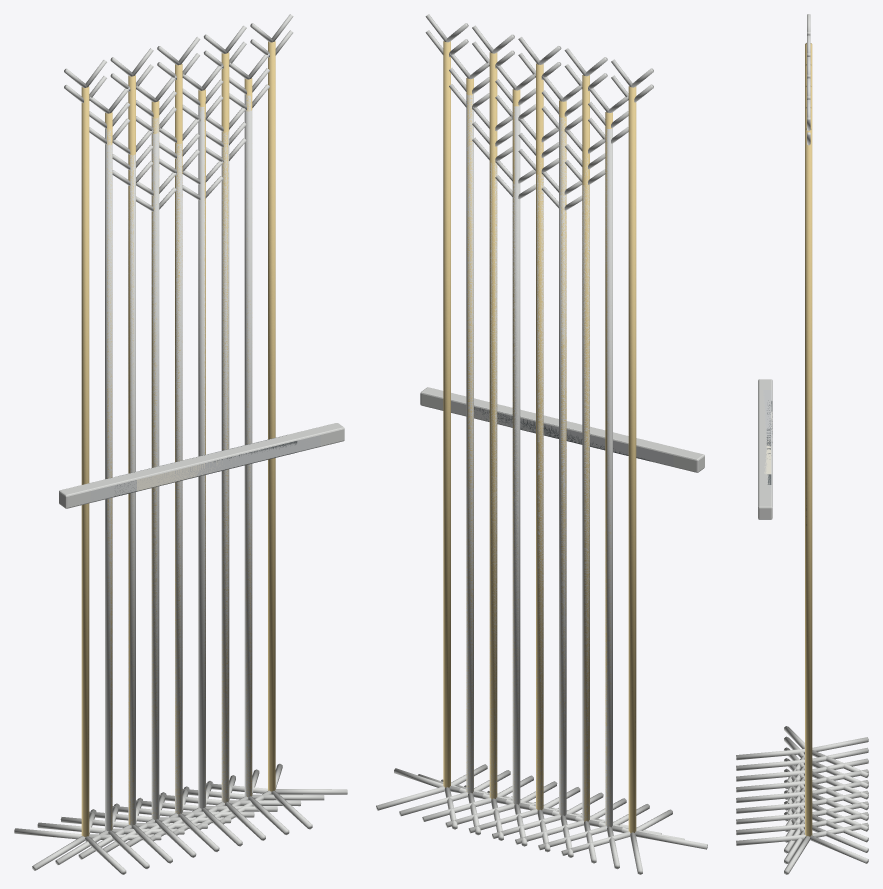
Rendered from Gear15.fbx.
The picture shows the model from 3 angles, left to right: view 1: azimuth 30°, elevation 25°; view 2: azimuth 150°, elevation 25°; view 3: azimuth 270°, elevation 25°; orthographic projection. The views are drawn at different scales.
Parts seen in each view (by area): view 1: Gear15_V6_Chrome, Gear15_V10_Brass, Gear15_V10_Chrome, Gear15_V5_Chrome, Gear15_V9_Brass, Gear15_V4_Chrome, Gear15_V7_Chrome, Gear15_V1_Chrome, Gear15_V8_Brass, Gear15_V3_Chrome, Gear15_V6_BrushedSteel, Gear15_V2_Chrome (+3 smaller); view 2: Gear15_V10_Brass, Gear15_V7_Chrome, Gear15_V9_Brass, Gear15_V6_Chrome, Gear15_V3_Chrome, Gear15_V10_Chrome, Gear15_V8_Brass, Gear15_V1_Chrome, Gear15_V2_Chrome, Gear15_V5_Chrome, Gear15_V6_BrushedSteel, Gear15_V9_Chrome (+2 smaller); view 3: Gear15_V10_Chrome, Gear15_V10_Brass, Gear15_V9_Brass, Gear15_V6_Chrome, Gear15_V1_Chrome, Gear15_V3_Chrome, Gear15_V6_BrushedSteel.
Part boxes in pixels (<box>): Gear15_V6_Chrome: <box>37,84,324,868</box>; Gear15_V10_Brass: <box>81,41,275,836</box>; Gear15_V10_Chrome: <box>14,14,347,874</box>; Gear15_V5_Chrome: <box>113,108,245,825</box>; Gear15_V9_Brass: <box>81,57,275,835</box>; Gear15_V4_Chrome: <box>112,122,246,824</box>; Gear15_V7_Chrome: <box>89,68,269,831</box>; Gear15_V1_Chrome: <box>89,176,277,857</box>; Gear15_V8_Brass: <box>105,78,252,830</box>; Gear15_V3_Chrome: <box>61,138,299,860</box>; Gear15_V6_BrushedSteel: <box>90,435,320,502</box>; Gear15_V2_Chrome: <box>136,161,223,818</box>; Gear15_V10_Brass: <box>443,41,636,833</box>; Gear15_V7_Chrome: <box>449,68,628,826</box>; Gear15_V9_Brass: <box>443,57,636,832</box>; Gear15_V6_Chrome: <box>399,84,684,869</box>; Gear15_V3_Chrome: <box>471,137,656,863</box>; Gear15_V10_Chrome: <box>376,14,707,874</box>; Gear15_V8_Brass: <box>466,78,612,825</box>; Gear15_V1_Chrome: <box>446,175,637,857</box>; Gear15_V2_Chrome: <box>495,160,582,815</box>; Gear15_V5_Chrome: <box>472,107,605,820</box>; Gear15_V6_BrushedSteel: <box>451,398,673,466</box>; Gear15_V9_Chrome: <box>425,30,653,102</box>; Gear15_V10_Chrome: <box>736,14,868,874</box>; Gear15_V10_Brass: <box>805,43,812,836</box>; Gear15_V9_Brass: <box>805,59,812,834</box>; Gear15_V6_Chrome: <box>736,736,868,863</box>; Gear15_V1_Chrome: <box>736,758,868,842</box>; Gear15_V3_Chrome: <box>736,755,868,849</box>; Gear15_V6_BrushedSteel: <box>763,390,771,495</box>.
Bounding box in the file's own units: 94.55 × 225 × 36.7.
